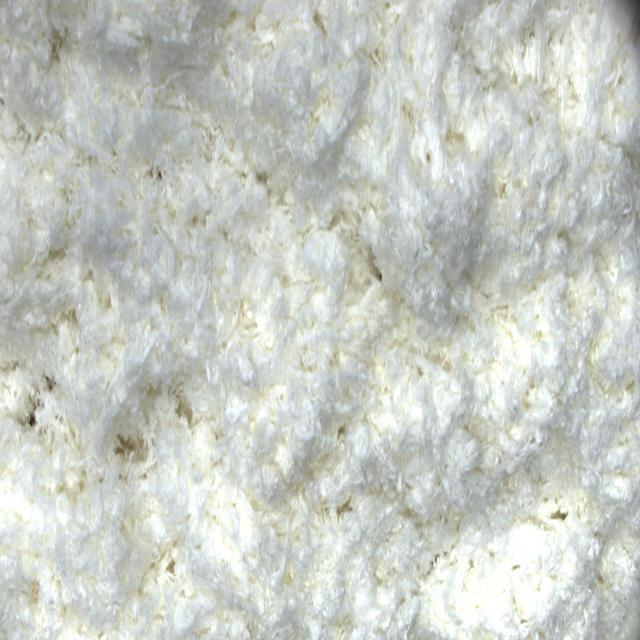dust: (20, 404, 44, 441)
